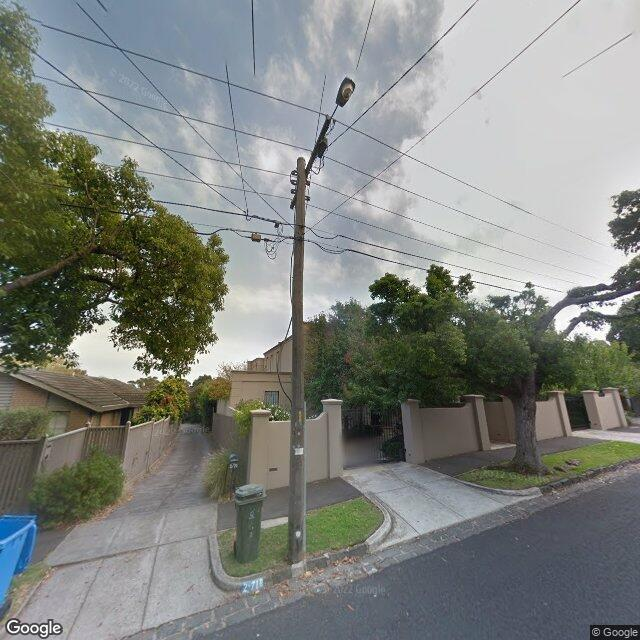crossarm: (288, 115, 332, 208)
streetlight: (329, 76, 356, 118)
timber-pole: (286, 157, 307, 562)
